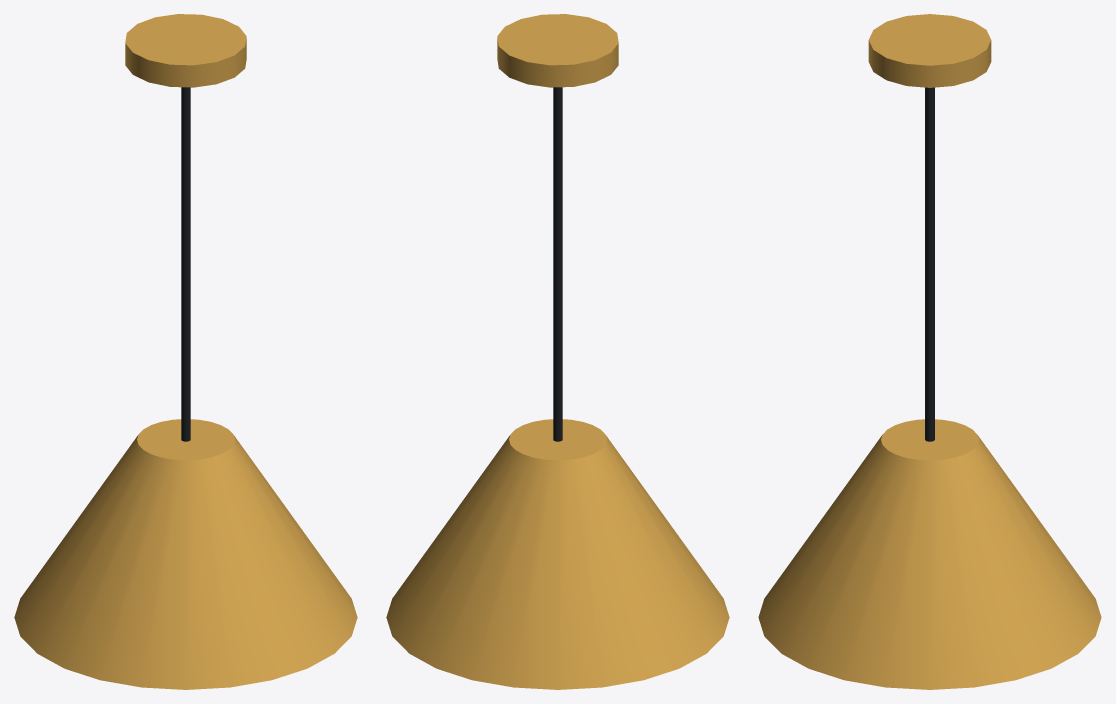
Rendered from pendant_light.glb.
3 renders of one model, left to right at view 1: azimuth 30°, elevation 25°; view 2: azimuth 150°, elevation 25°; view 3: azimuth 270°, elevation 25°, orthographic.
Size of the model in its own units: 0.28 by 0.54 by 0.28.
